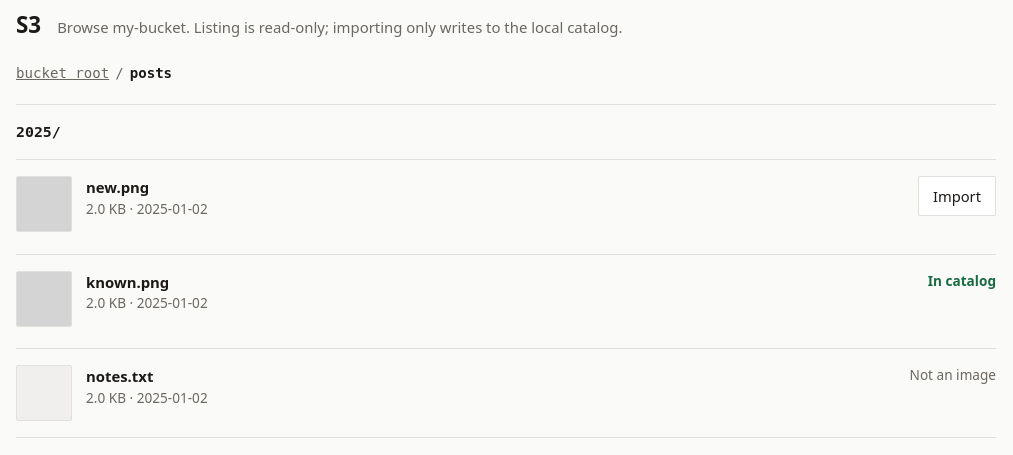
it: S3Browser › imports an object and marks it as in the catalog
Click the button "Import" at (957, 196), box x1=918 y1=176 x2=996 y2=216
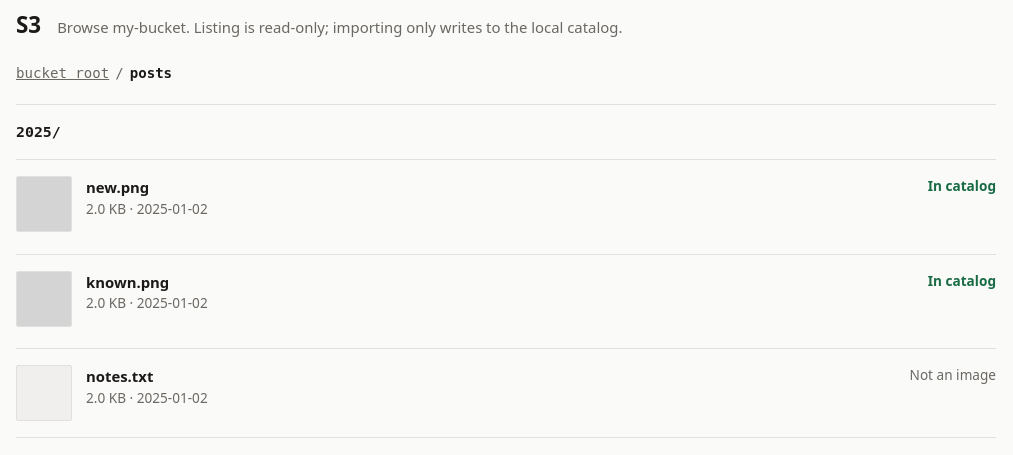
Check: the text "In catalog" is shown 2 times, box x1=928 y1=176 x2=996 y2=197; x1=928 y1=271 x2=996 y2=291
